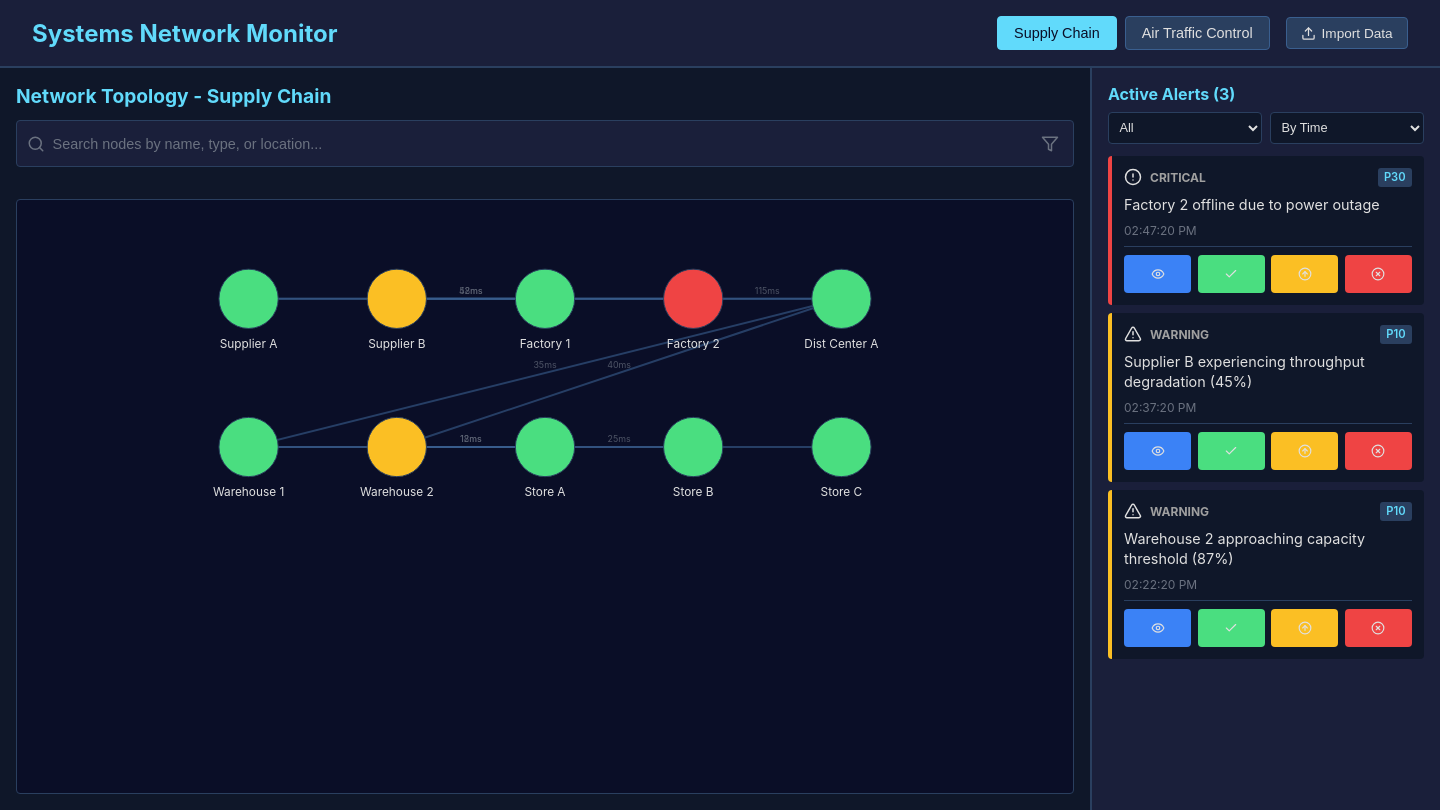
Scenario: clicking Escalate shows Escalated badge and hides action buttons
# Find and click the Escalate button on the first unacknowledged alert
Click the button named "Escalate" below "02:47:20 PM": (1305, 274) [1271, 255, 1338, 293]
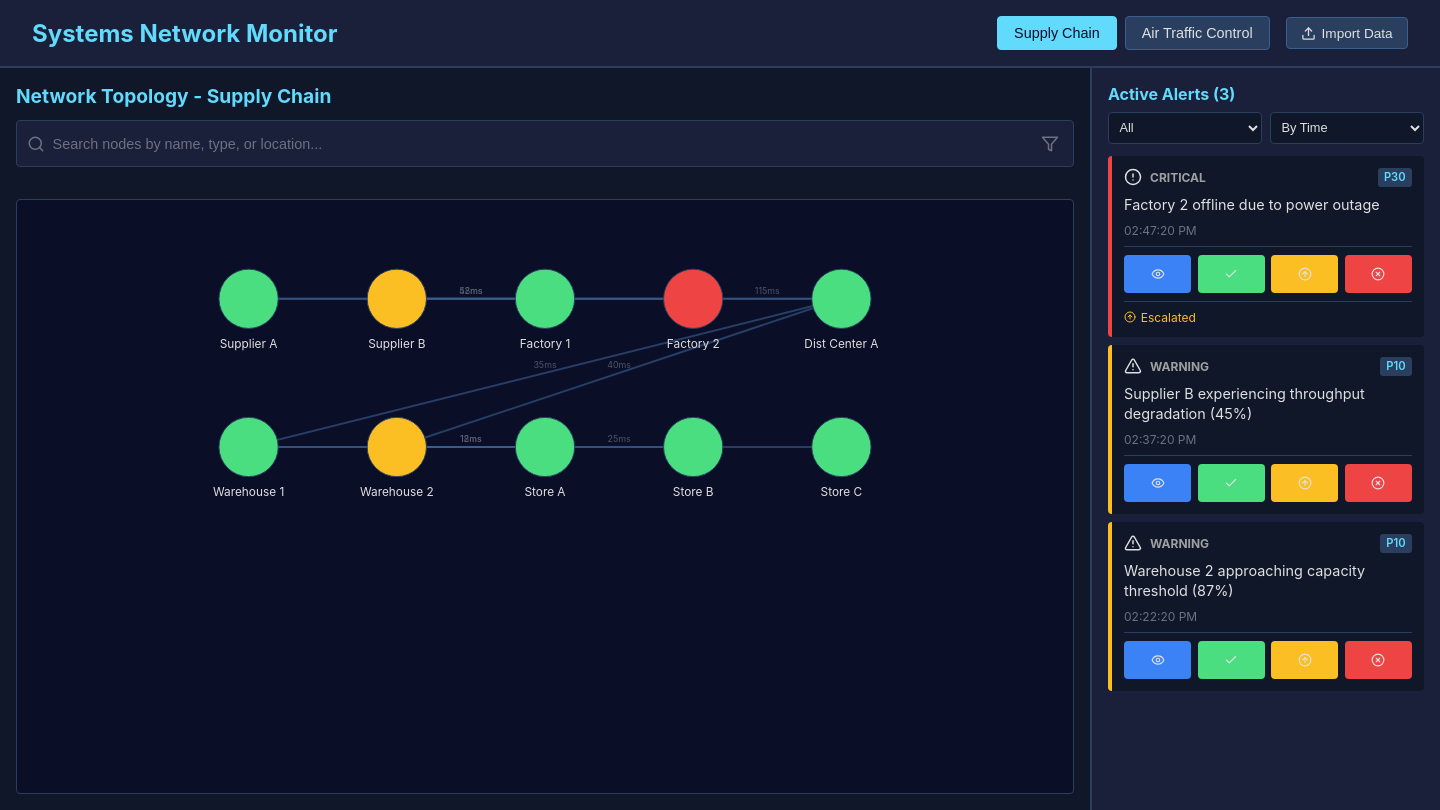
Result: the text "Escalated" is shown at [1141, 310, 1196, 325]
